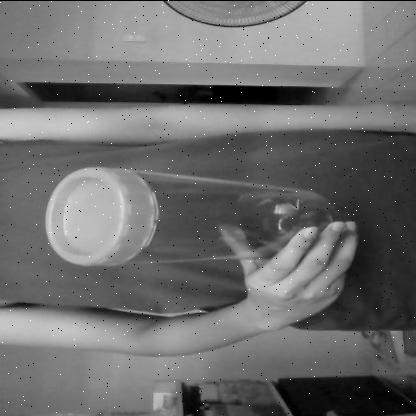Plastic Bottle: (42, 166, 356, 267)
